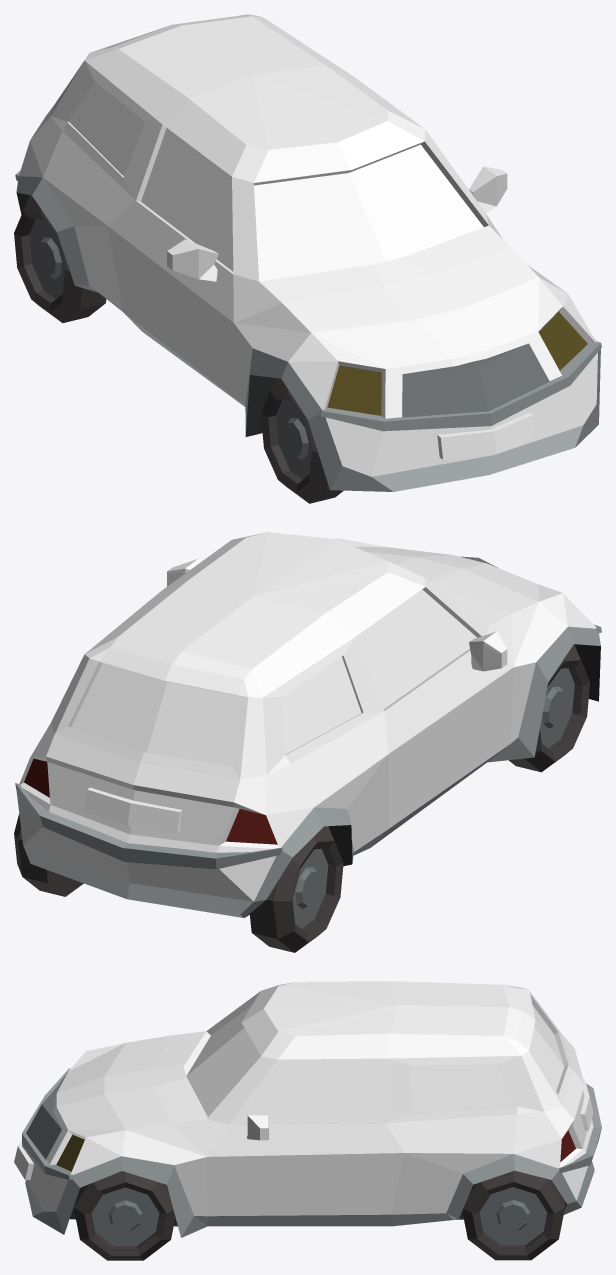
The model's file is Hatchback_02.fbx.
The picture shows the model from 3 angles, top to bottom: view 1: azimuth 30°, elevation 25°; view 2: azimuth 150°, elevation 25°; view 3: azimuth 270°, elevation 25°; orthographic projection. The views are drawn at different scales.
Visible parts, largest first — view 1: Body, Windows, Body_Details, Wheels, Lights; view 2: Body, Windows, Body_Details, Wheels, Lights; view 3: Body, Windows, Wheels, Body_Details, Lights.
Part boxes in pixels (box(x1,y1,x2,y2)): Body: box(19, 14, 597, 476); Windows: box(69, 82, 483, 281); Body_Details: box(15, 170, 601, 491); Wheels: box(14, 195, 343, 503); Lights: box(327, 312, 587, 415); Body: box(19, 532, 596, 901); Windows: box(71, 571, 498, 766); Body_Details: box(15, 556, 601, 917); Wheels: box(14, 644, 590, 952); Lights: box(24, 758, 277, 844); Body: box(22, 981, 593, 1216); Windows: box(186, 1005, 564, 1137); Wheels: box(73, 1170, 565, 1260); Body_Details: box(14, 1068, 601, 1237); Lights: box(56, 1130, 575, 1171).
Bounding box in the file's own units: 2.16 × 1.62 × 4.19.
